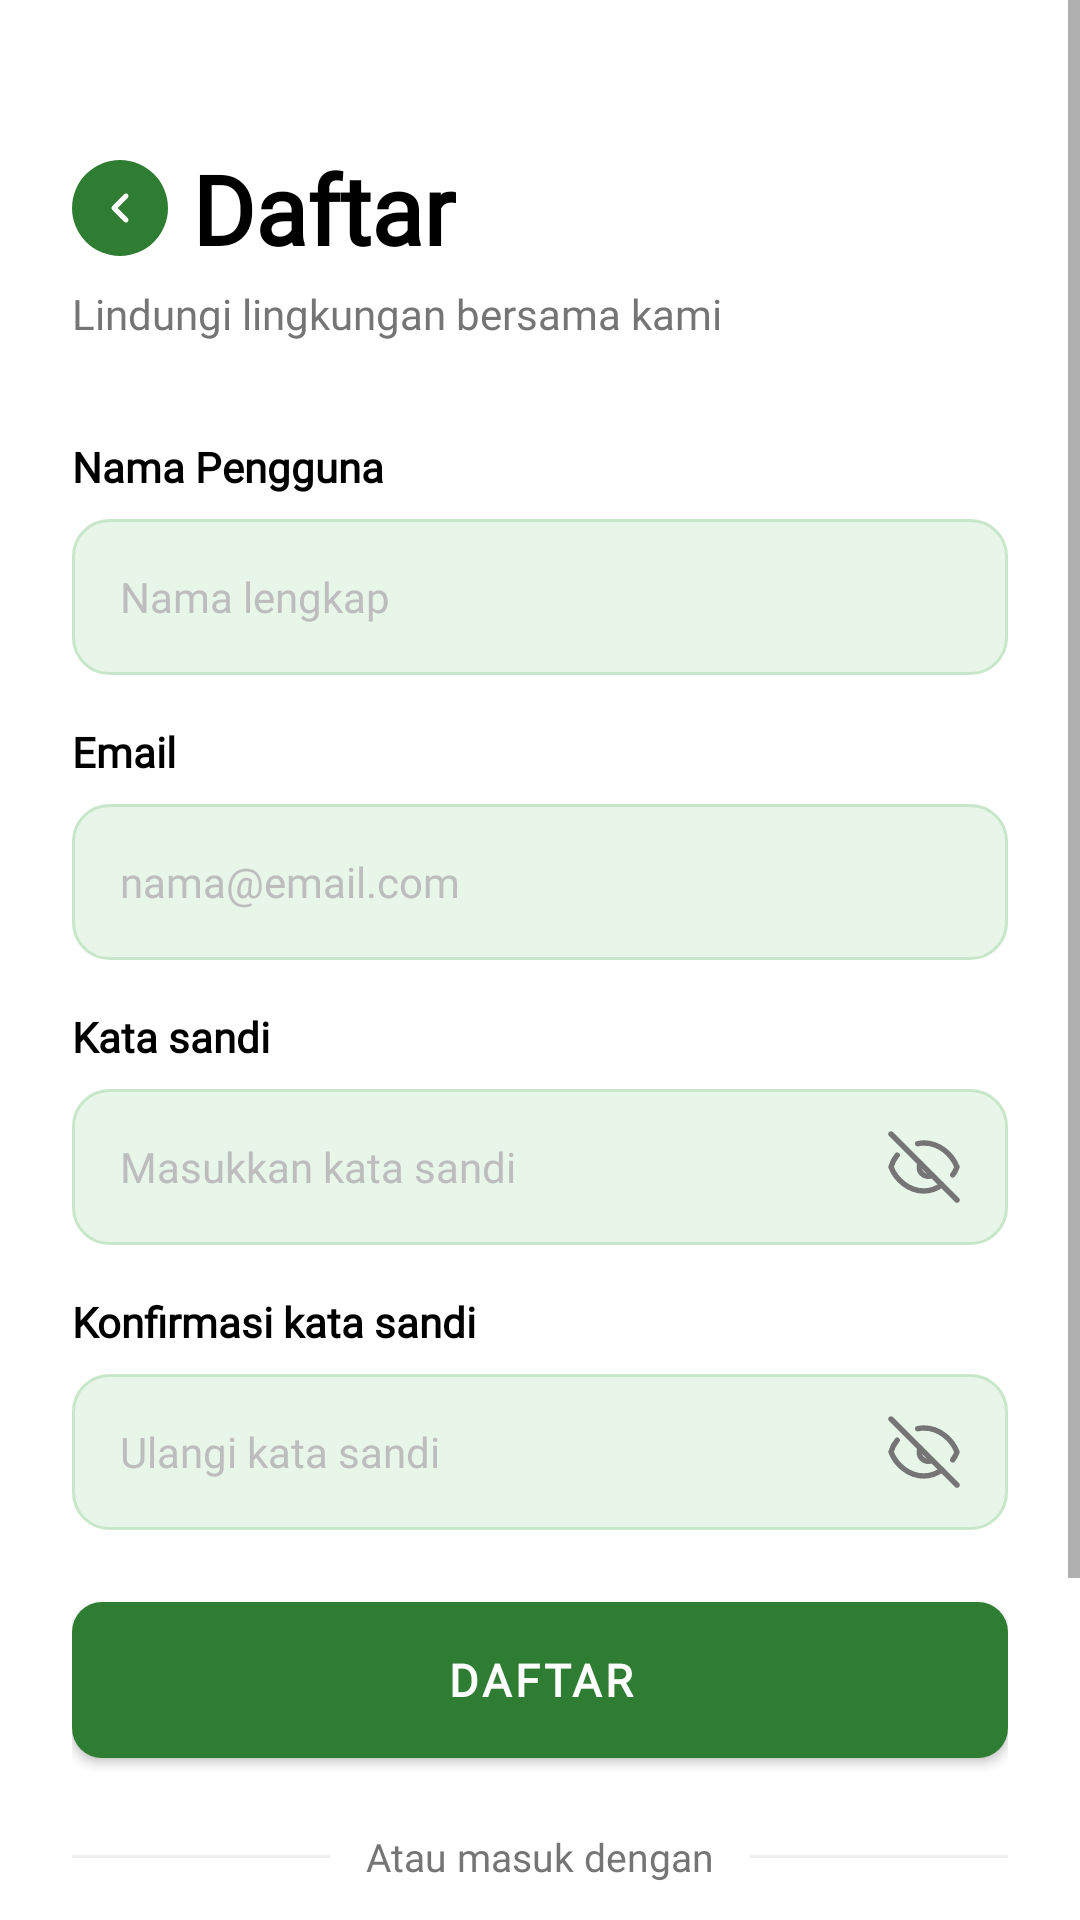

Icon bounding boxes for this 1080×1920 phone screenshot, format [left=x1, top=y1, right=x2, bottom=y2]:
Kembali: [left=72, top=160, right=168, bottom=256]
Tampilkan/sembunyikan kata sandi: [left=888, top=1131, right=960, bottom=1203], [left=888, top=1416, right=960, bottom=1488]
